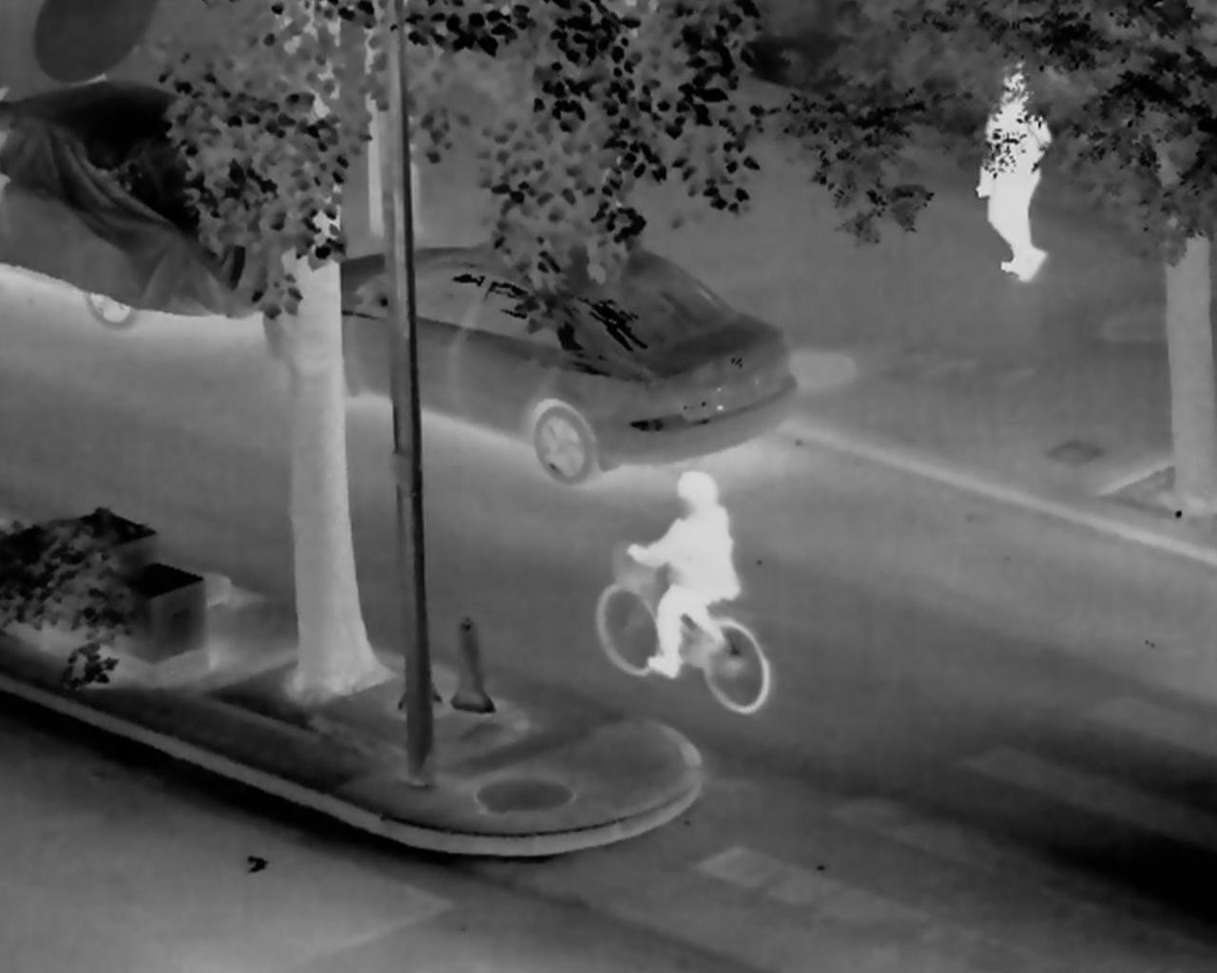person: (629, 470, 741, 677), (975, 67, 1049, 282)
